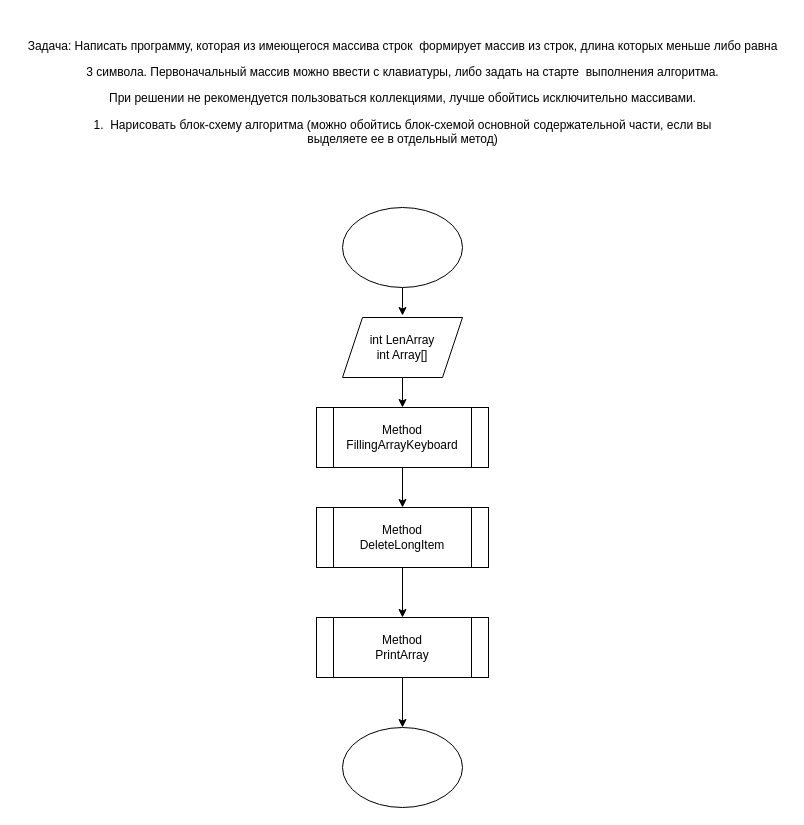
The diagram is 804 pixels wide and 825 high, and some of its shapes have lost their labels. The centre of each missing label's shape, as x and y in pixels:
End: point (402, 767)
Start: point (402, 247)
